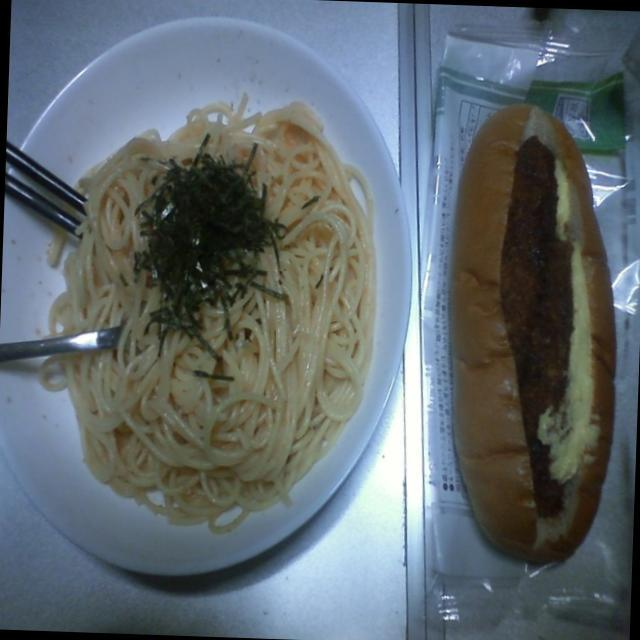Pasta: (28, 102, 388, 530)
